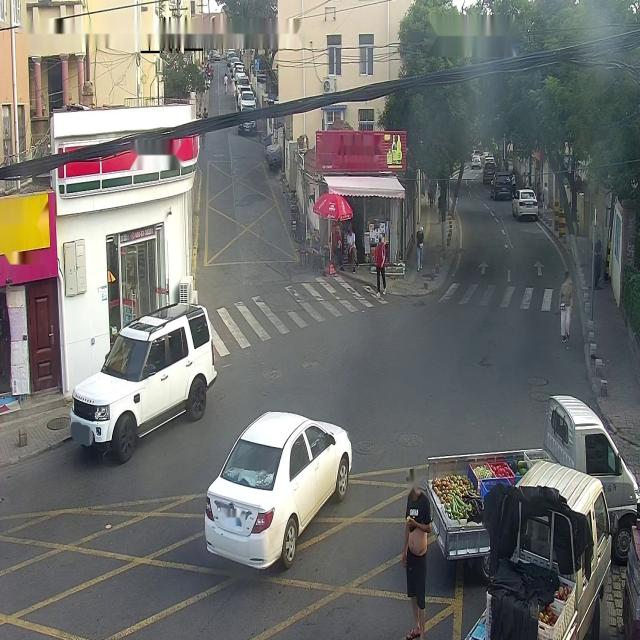car: (423, 392, 640, 576), (456, 458, 619, 640)
fixed_stall: (430, 440, 558, 526), (477, 557, 581, 640)
sunshade: (322, 172, 407, 200), (312, 190, 354, 222)
